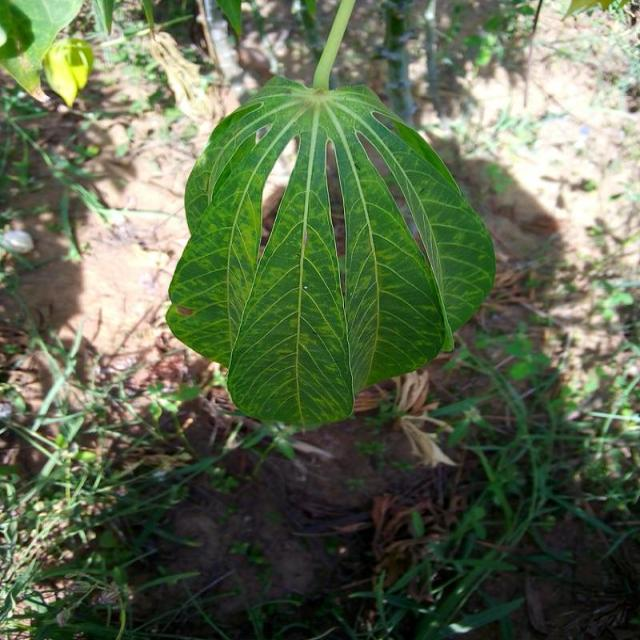cassava leaf: (166, 71, 497, 432)
